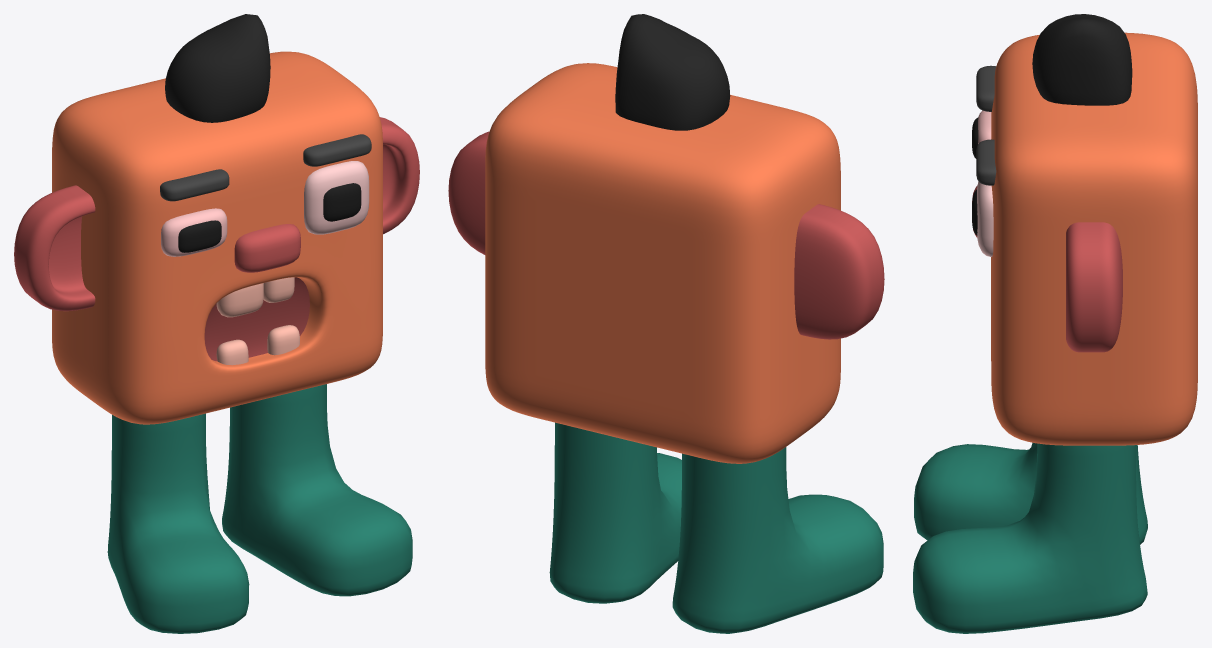
The model's file is pumpkin.glb.
The picture shows the model from 3 angles, left to right: view 1: azimuth 30°, elevation 25°; view 2: azimuth 150°, elevation 25°; view 3: azimuth 270°, elevation 25°; orthographic projection. The views are drawn at different scales.
Parts seen in each view (by area): view 1: Cube, Cube 5, Subdiv 11, Cube 3, Subdiv 10, Cube 6, Cube 4, Subdiv 3, Cube 2, Subdiv 5 (×2), Subdiv 4, Subdiv 8 (+5 smaller); view 2: Cube, Subdiv 11, Cube 5, Cube 3, Subdiv 10, Cube 4; view 3: Cube, Cube 5, Subdiv 11, Cube 3, Cube 4, Subdiv 3, Subdiv 9, Subdiv 8, Subdiv 4.
Boxes of the visible parts, bbox=[...] form: Cube: bbox=[52, 51, 382, 424]; Cube 5: bbox=[222, 384, 412, 596]; Subdiv 11: bbox=[107, 413, 249, 633]; Cube 3: bbox=[165, 14, 270, 122]; Subdiv 10: bbox=[14, 185, 95, 311]; Cube 6: bbox=[204, 277, 309, 361]; Cube 4: bbox=[379, 117, 419, 234]; Subdiv 3: bbox=[304, 161, 369, 234]; Cube 2: bbox=[234, 224, 300, 272]; Subdiv 5 (×2): bbox=[216, 325, 299, 365]; Subdiv 4: bbox=[161, 208, 227, 256]; Subdiv 8: bbox=[160, 169, 229, 201]; Cube: bbox=[485, 63, 840, 463]; Subdiv 11: bbox=[672, 447, 883, 633]; Cube 5: bbox=[549, 422, 681, 603]; Cube 3: bbox=[615, 14, 730, 130]; Subdiv 10: bbox=[794, 204, 884, 339]; Cube 4: bbox=[448, 131, 489, 254]; Cube: bbox=[991, 32, 1197, 445]; Cube 5: bbox=[913, 443, 1147, 633]; Subdiv 11: bbox=[914, 442, 1147, 544]; Cube 3: bbox=[1032, 14, 1132, 105]; Cube 4: bbox=[1066, 222, 1122, 352]; Subdiv 3: bbox=[977, 181, 993, 256]; Subdiv 9: bbox=[976, 139, 996, 185]; Subdiv 8: bbox=[976, 65, 996, 111]; Subdiv 4: bbox=[978, 110, 991, 143].
Size of what is drawn, in the model's own units: 5.39 by 7.08 by 3.2.
